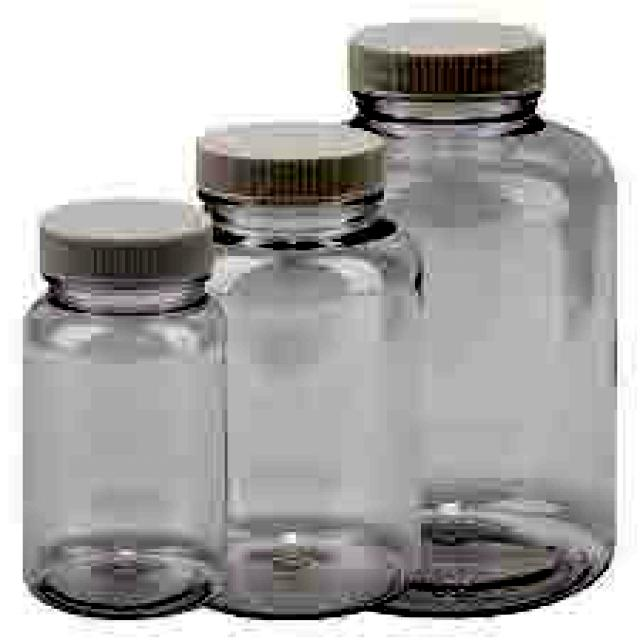Glass: (346, 21, 620, 618), (195, 122, 415, 618), (19, 197, 231, 621)
